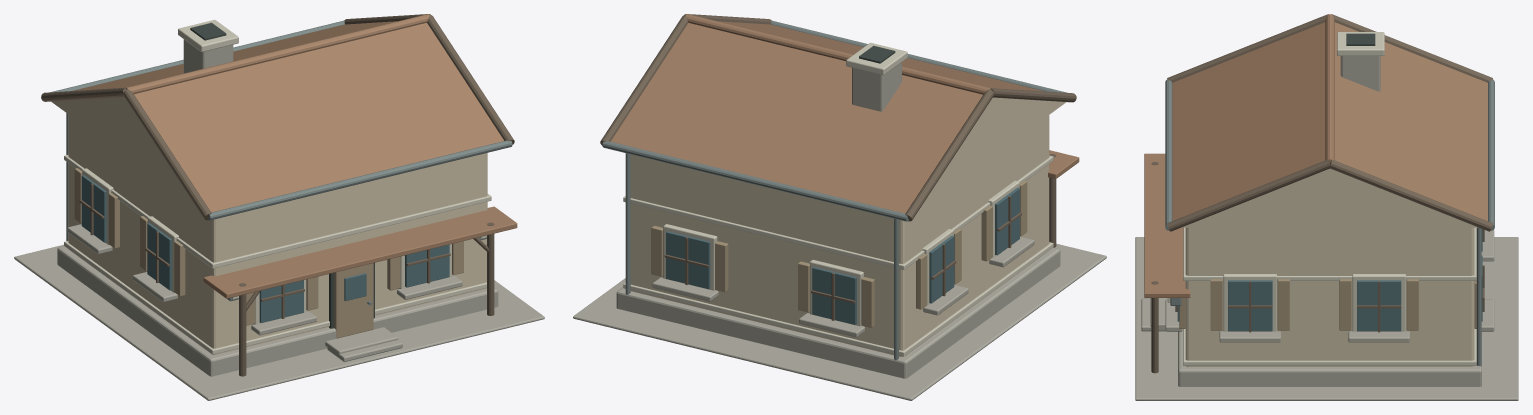
File: district_art_4.glb
3 views of the same model, side by side, from view 1: azimuth 30°, elevation 25°; view 2: azimuth 150°, elevation 25°; view 3: azimuth 270°, elevation 25° (orthographic). The views are drawn at different scales.
Parts seen in each view (by area): view 1: roof, plaster, stone, trim, timber, wood, glass, metal, dark; view 2: roof, plaster, stone, trim, glass, timber, metal, wood; view 3: roof, plaster, stone, timber, trim, glass, metal, wood, dark.
Part boxes in pixels (<box>): roof: <box>73,14,517,298</box>; plaster: <box>51,97,487,354</box>; stone: <box>14,39,544,400</box>; trim: <box>64,19,491,354</box>; timber: <box>41,14,514,376</box>; wood: <box>74,168,463,338</box>; glass: <box>81,175,449,322</box>; metal: <box>51,20,512,305</box>; dark: <box>190,22,374,328</box>; roof: <box>611,14,1079,213</box>; plaster: <box>630,97,1066,356</box>; stone: <box>573,62,1106,400</box>; trim: <box>623,42,1053,356</box>; glass: <box>666,187,1019,324</box>; timber: <box>600,14,1076,320</box>; metal: <box>602,20,1067,360</box>; wood: <box>651,180,1027,327</box>; roof: <box>1144,14,1487,297</box>; plaster: <box>1181,168,1478,366</box>; stone: <box>1135,56,1518,400</box>; timber: <box>1151,14,1492,373</box>; trim: <box>1167,32,1476,365</box>; glass: <box>1177,229,1482,331</box>; metal: <box>1165,79,1494,366</box>; wood: <box>1179,279,1476,330</box>; dark: <box>1346,33,1375,45</box>.
Size of the model in its own units: 12.5 by 9.19 by 12.5.
